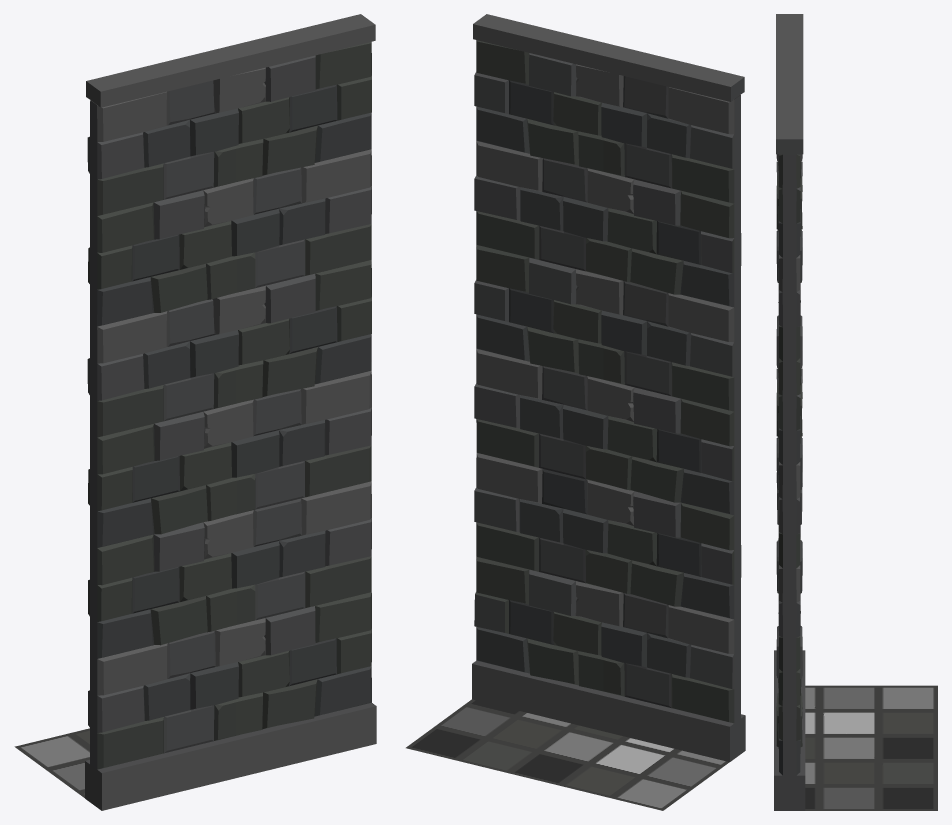
The model's file is Dungeon_Tilemap_03.fbx.
3 views of the same model, side by side, from view 1: azimuth 30°, elevation 25°; view 2: azimuth 150°, elevation 25°; view 3: azimuth 270°, elevation 25° (orthographic). The views are drawn at different scales.
Parts seen in each view (by area): view 1: Dungeon_Tilemap_03; view 2: Dungeon_Tilemap_03; view 3: Dungeon_Tilemap_03.
Boxes of the visible parts, x1,y1,x2,y2 form: Dungeon_Tilemap_03: (14,14,376,810); Dungeon_Tilemap_03: (406,14,745,810); Dungeon_Tilemap_03: (774,14,937,810).
Size of the model in its own units: 100 by 250 by 55.31.
Materials: 2 (2 with a texture image).
